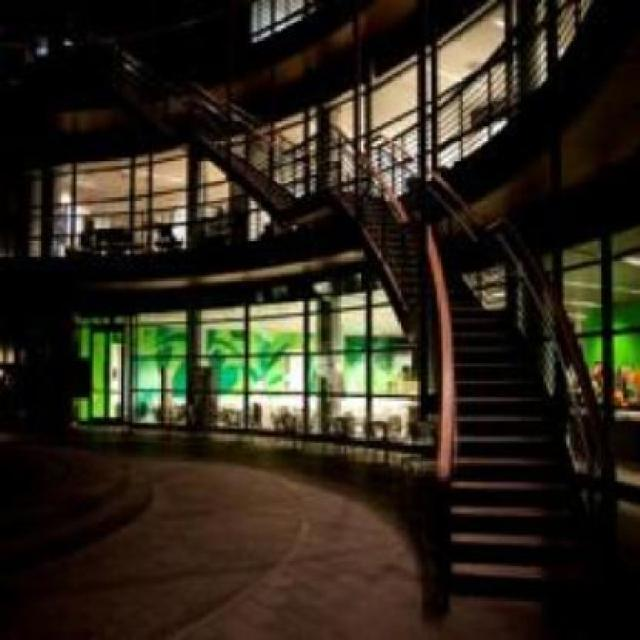stair: (426, 294, 585, 602)
